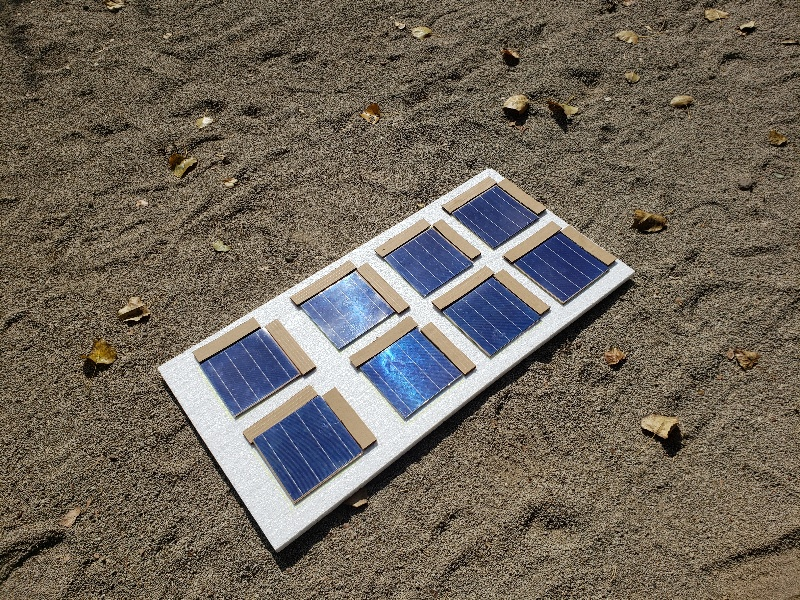clean: (251, 397, 368, 502), (355, 323, 463, 422), (196, 329, 304, 418), (508, 229, 612, 306), (444, 276, 540, 356), (375, 224, 473, 294), (449, 186, 540, 251)
